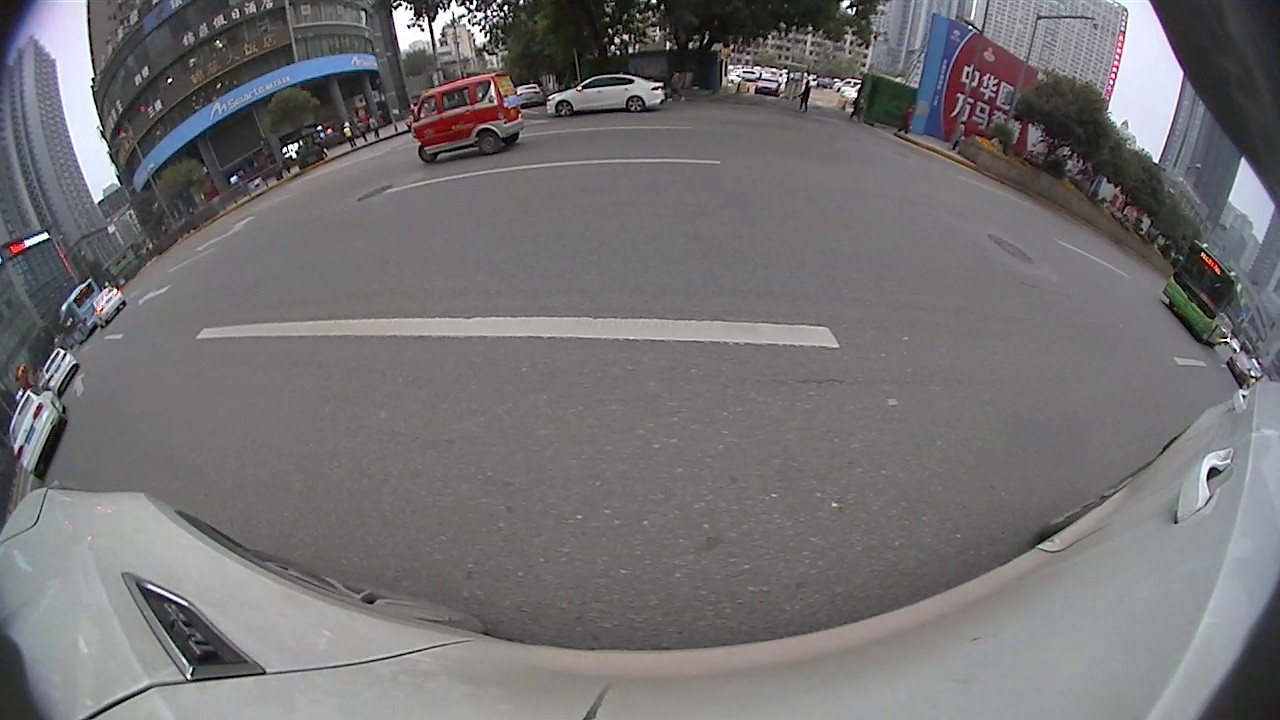bus: (1160, 236, 1239, 349), (58, 276, 104, 344)
car: (8, 384, 68, 483), (543, 74, 666, 119), (39, 346, 82, 388), (1224, 347, 1262, 385), (93, 286, 127, 325)
front: (554, 99, 577, 119), (417, 146, 439, 164)
rear: (476, 132, 501, 155), (627, 94, 647, 115)
rider: (406, 70, 522, 164)
